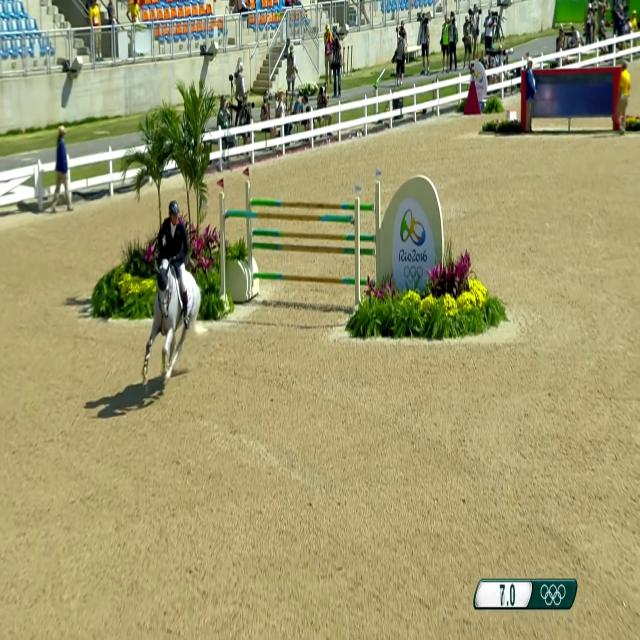Horse Running: (145, 200, 217, 416)
